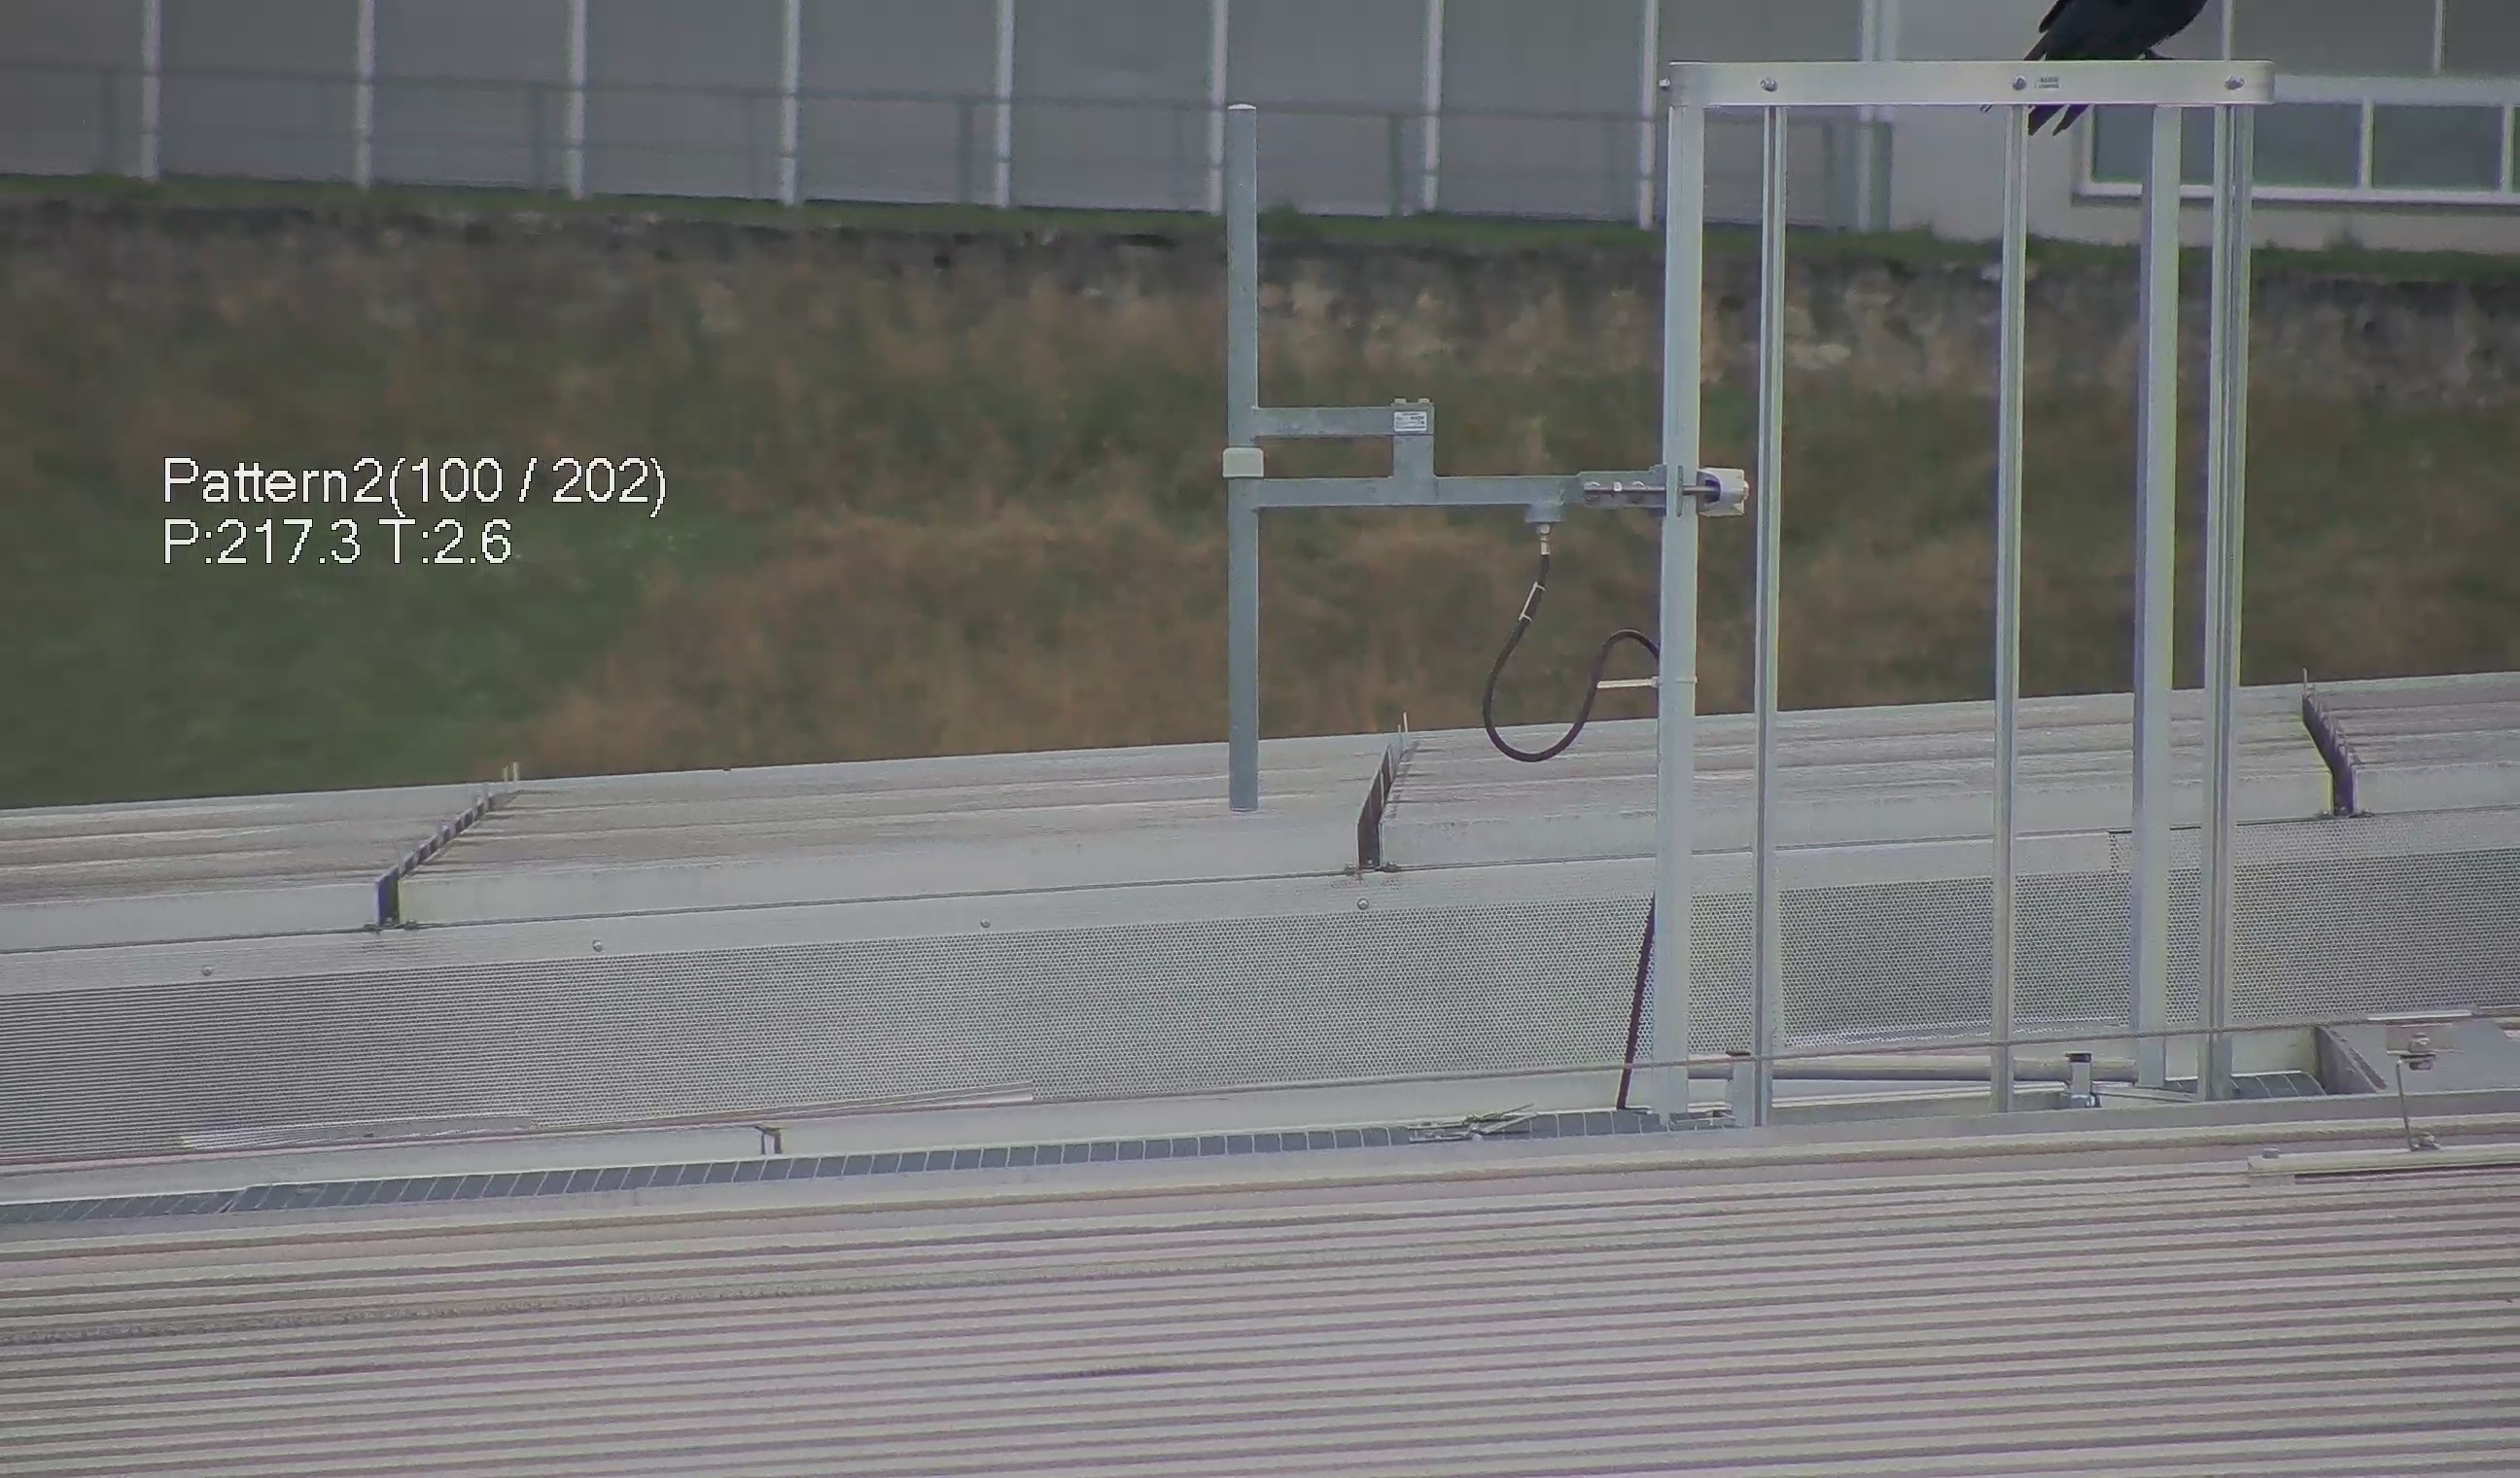Other: (2291, 663, 2388, 832)
